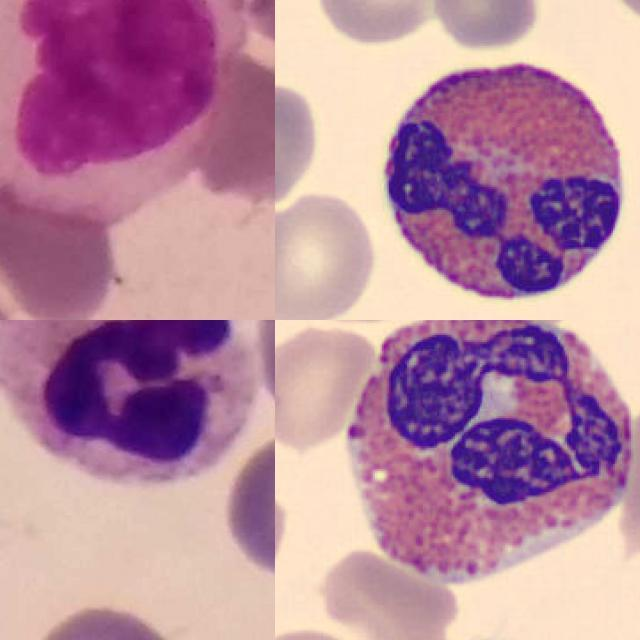Eosinophil: (330, 320, 640, 601), (368, 44, 640, 319)
Monocyte: (0, 0, 243, 202)
Neutrophil: (0, 320, 255, 486)
RBC: (275, 322, 382, 453), (275, 190, 382, 320), (310, 0, 449, 47), (275, 77, 323, 206), (430, 0, 540, 53), (617, 395, 640, 557)
